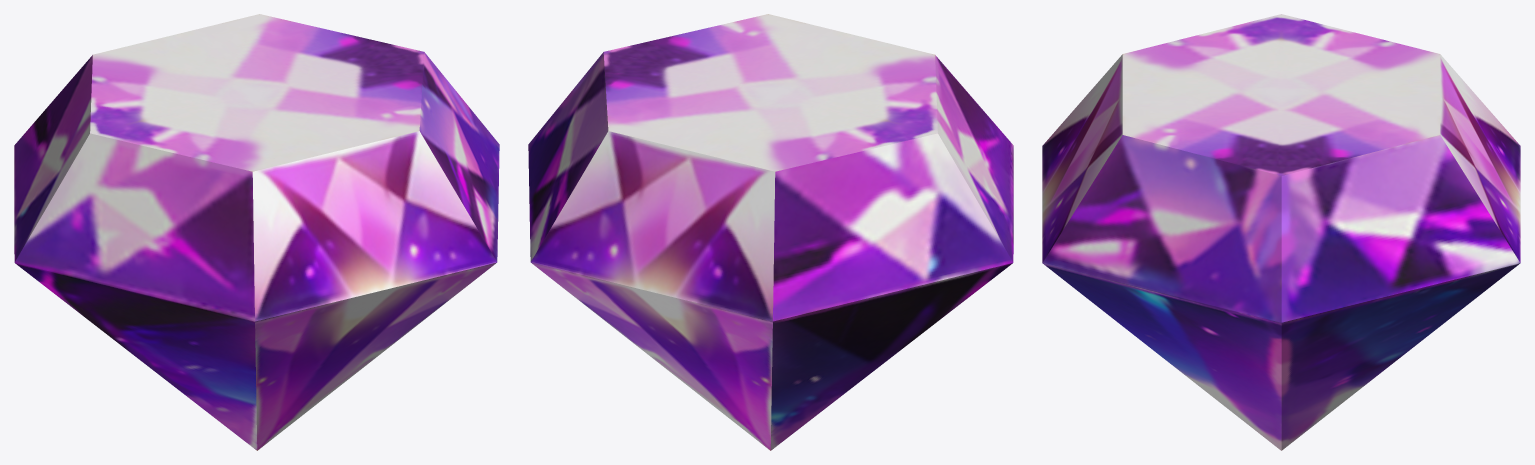
File: zuanshi.fbx
The picture shows the model from 3 angles, left to right: view 1: azimuth 30°, elevation 25°; view 2: azimuth 150°, elevation 25°; view 3: azimuth 270°, elevation 25°; orthographic projection.
Parts seen in each view (by area): view 1: sanqibaotiao_zuanshi; view 2: sanqibaotiao_zuanshi; view 3: sanqibaotiao_zuanshi.
Part boxes in pixels (x1,y1,x2,y2): sanqibaotiao_zuanshi: (14,14,499,450); sanqibaotiao_zuanshi: (528,14,1013,450); sanqibaotiao_zuanshi: (1042,14,1520,450).
Bounding box in the file's own units: 72.41 × 51.11 × 62.22.
